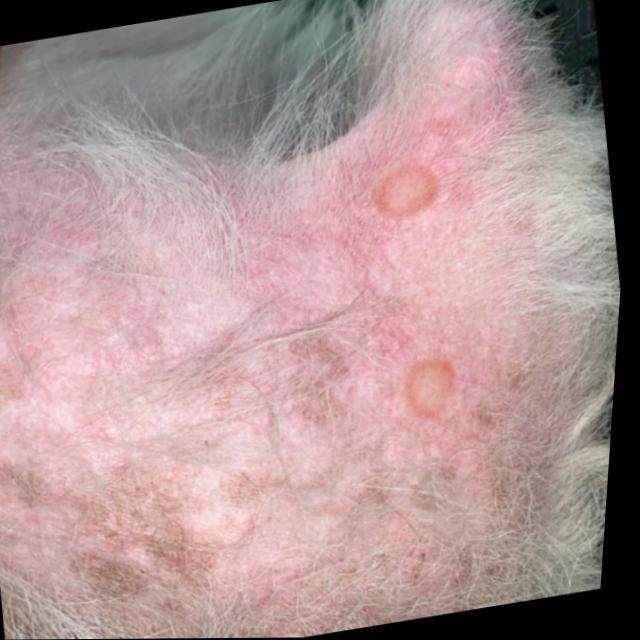ringworm: (366, 139, 454, 236), (392, 342, 481, 429)
